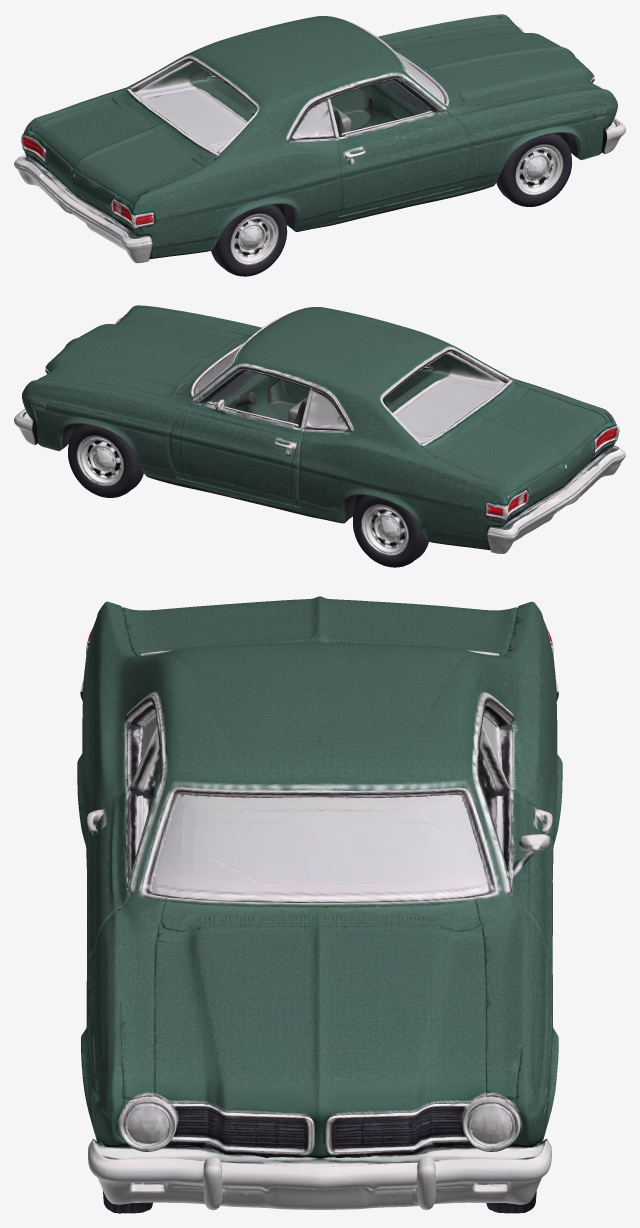
Rendered from green_fastback.glb.
3 renders of one model, top to bottom at view 1: azimuth 30°, elevation 25°; view 2: azimuth 150°, elevation 25°; view 3: azimuth 270°, elevation 25°, orthographic. The views are drawn at different scales.
Parts seen in each view (by area): view 1: tripo_node_1615adb9-068e-4b6d-b342-b06954523ea4; view 2: tripo_node_1615adb9-068e-4b6d-b342-b06954523ea4; view 3: tripo_node_1615adb9-068e-4b6d-b342-b06954523ea4.
Boxes of the visible parts, bbox=[...] form: tripo_node_1615adb9-068e-4b6d-b342-b06954523ea4: bbox=[14, 14, 625, 276]; tripo_node_1615adb9-068e-4b6d-b342-b06954523ea4: bbox=[14, 305, 625, 567]; tripo_node_1615adb9-068e-4b6d-b342-b06954523ea4: bbox=[77, 596, 562, 1213].
Bounding box in the file's own units: 0.9797 × 0.2946 × 0.3994.
1 material, 1 textured.
